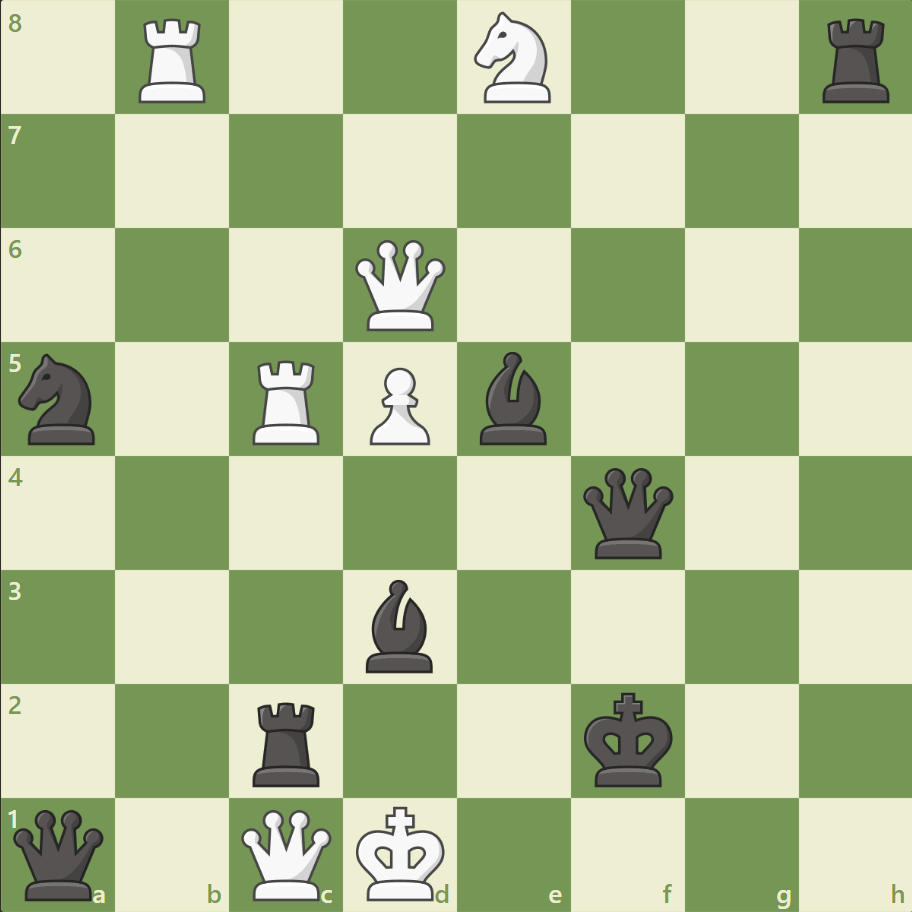K: (351, 798, 451, 906)
N: (465, 7, 562, 110)
P: (361, 359, 435, 450)
Q: (351, 236, 450, 335), (237, 804, 336, 903)
R: (246, 352, 329, 449), (133, 12, 215, 109)
b: (471, 347, 555, 449), (358, 574, 442, 676)
k: (579, 685, 679, 793)
n: (11, 348, 108, 450)
q: (578, 463, 677, 562), (10, 804, 109, 903)
r: (814, 12, 897, 109), (246, 693, 329, 790)
